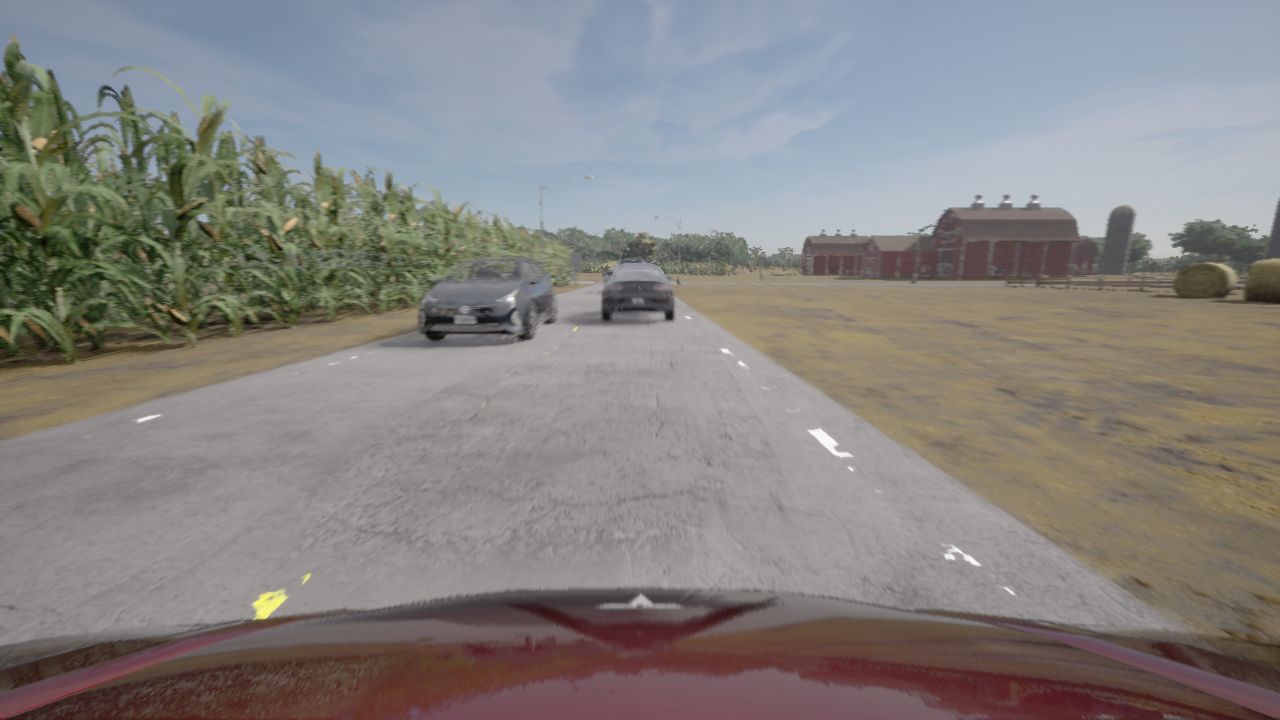cyclist: (0, 588, 1279, 719), (417, 257, 556, 340), (602, 264, 674, 320), (602, 266, 617, 282), (558, 270, 575, 281), (618, 259, 645, 265)
